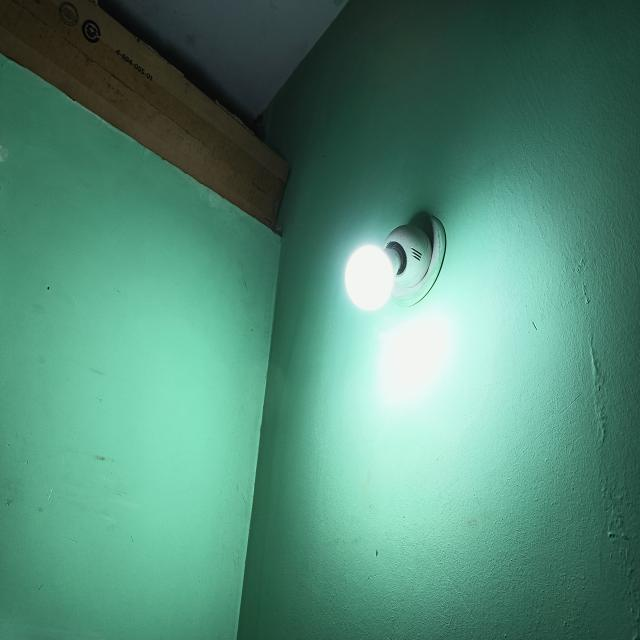bulb_on: (342, 241, 396, 313)
